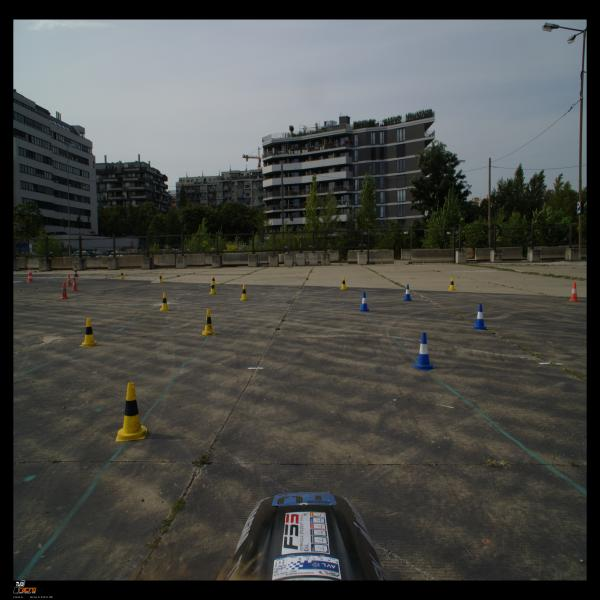blue_cone: (412, 332, 436, 370), (471, 304, 488, 330), (358, 292, 371, 312), (402, 284, 413, 301)
large_orange_cone: (26, 268, 34, 282), (73, 265, 79, 277)
orange_cone: (568, 282, 581, 302), (60, 283, 69, 299), (71, 277, 79, 291), (66, 274, 72, 285)
yellow_cone: (115, 382, 147, 442), (79, 318, 99, 347), (202, 309, 216, 335), (159, 292, 170, 311), (239, 284, 250, 300), (208, 281, 218, 294), (339, 276, 348, 290), (448, 277, 456, 291), (210, 275, 217, 286), (158, 273, 163, 283), (120, 271, 125, 279)
